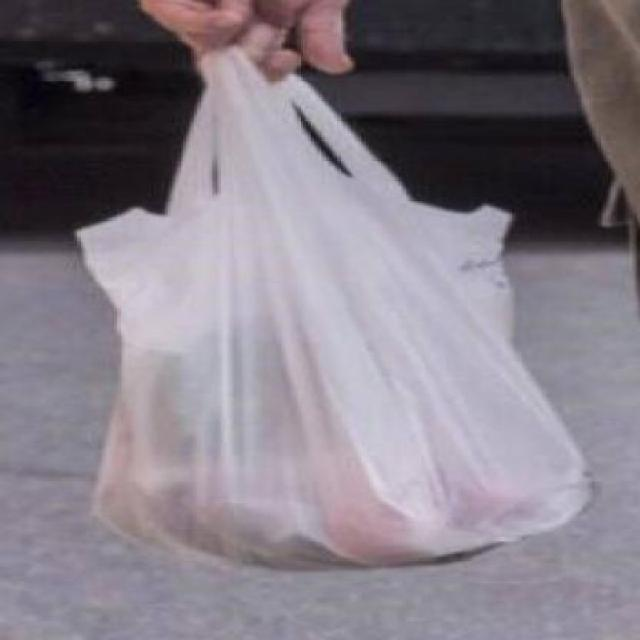plastic bag: (64, 46, 606, 588)
